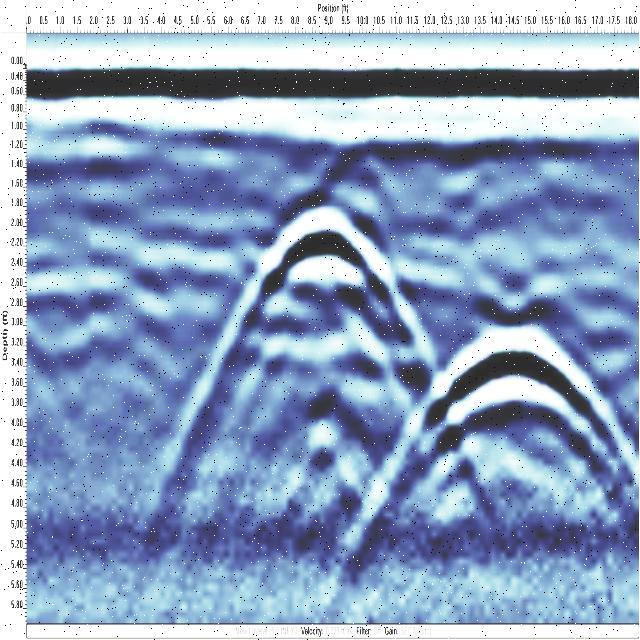hyperbola: (150, 141, 449, 554), (405, 309, 627, 552)
